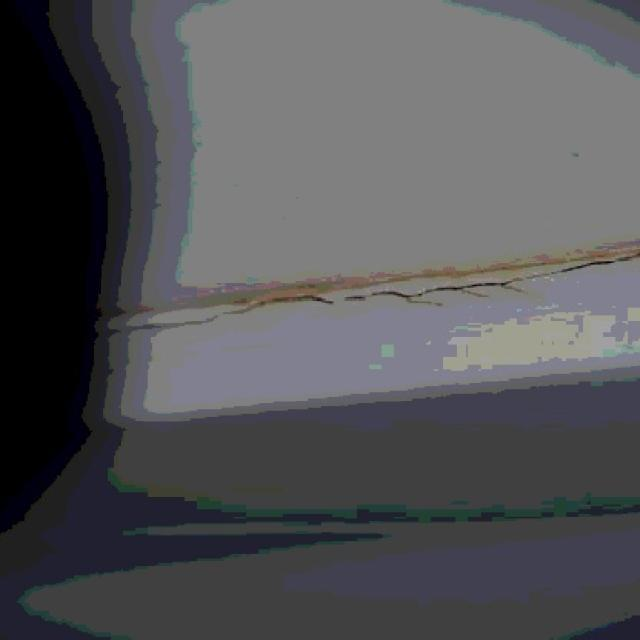crack: (141, 293, 338, 329), (510, 255, 638, 286), (343, 283, 505, 303)
